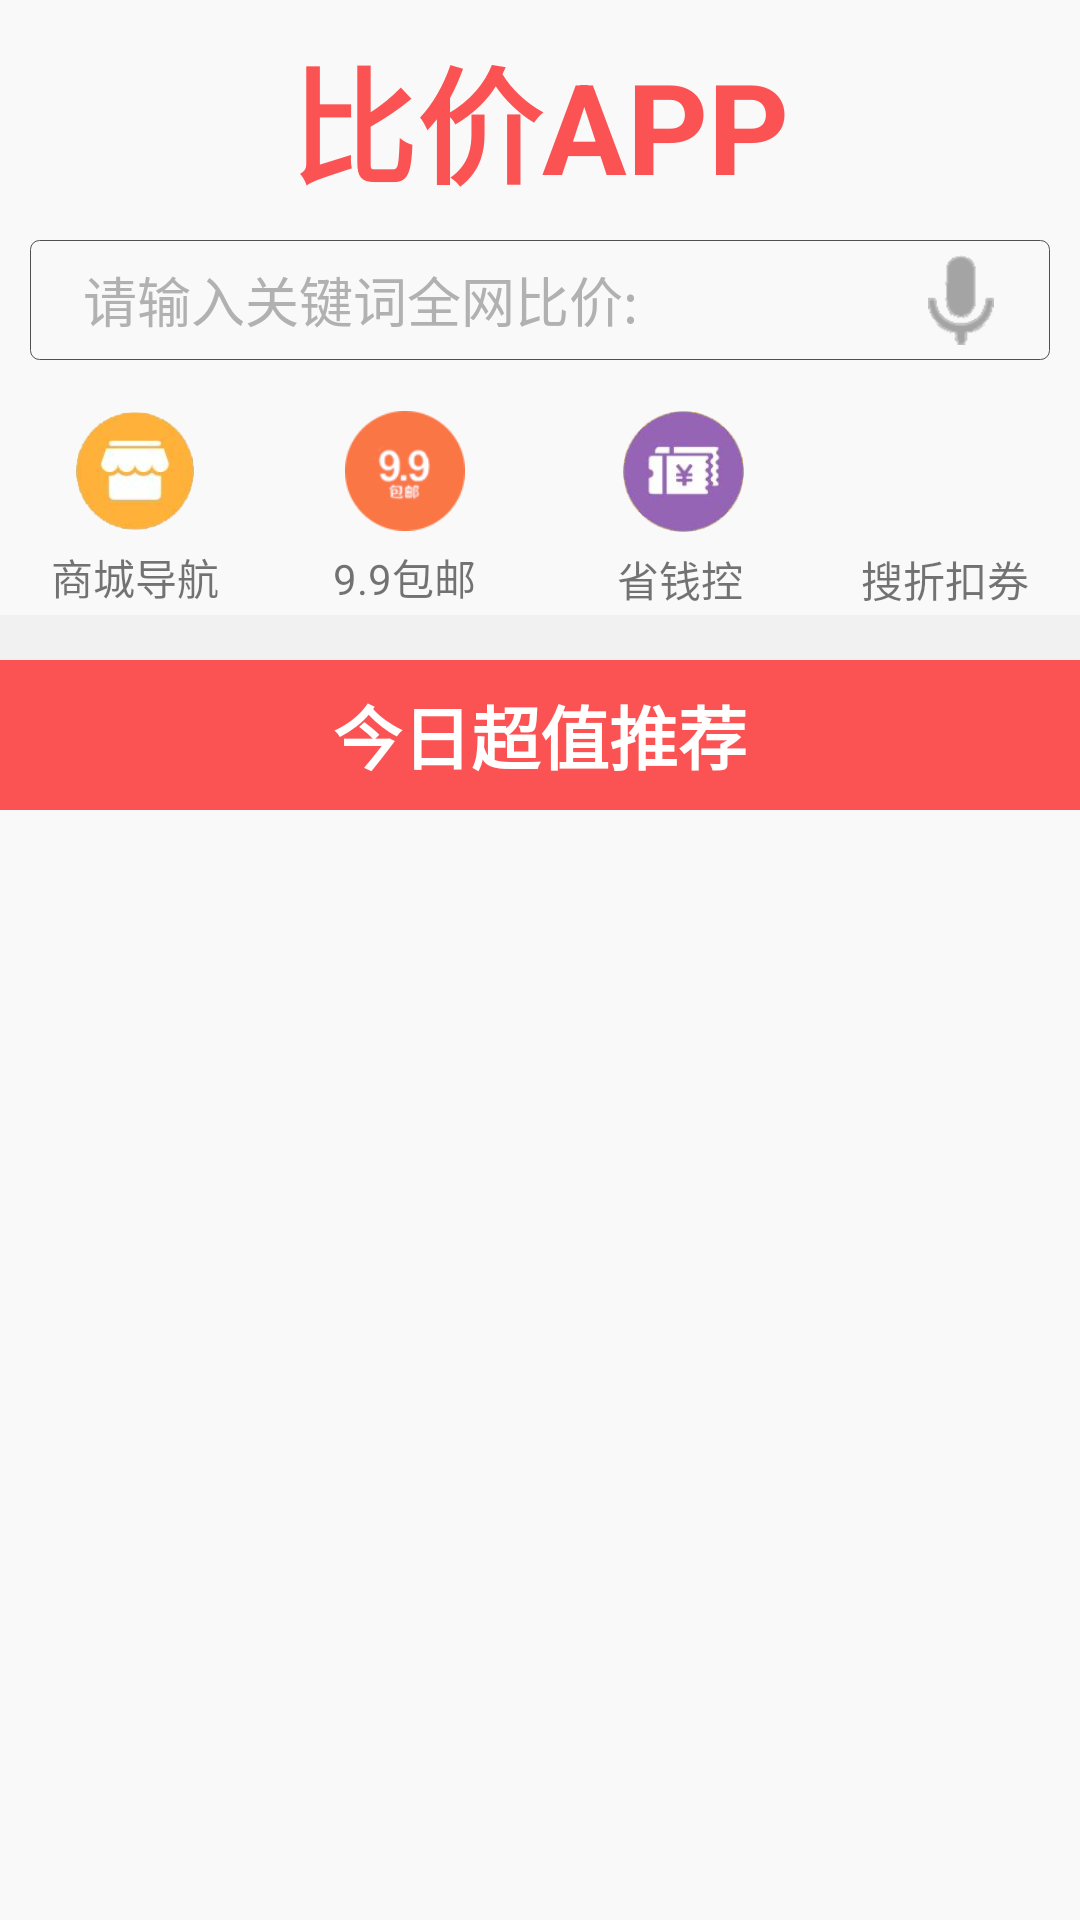

Named icons in this screenshot (1080px×1920px) and their centers, (x,y):
record: (961,300)
